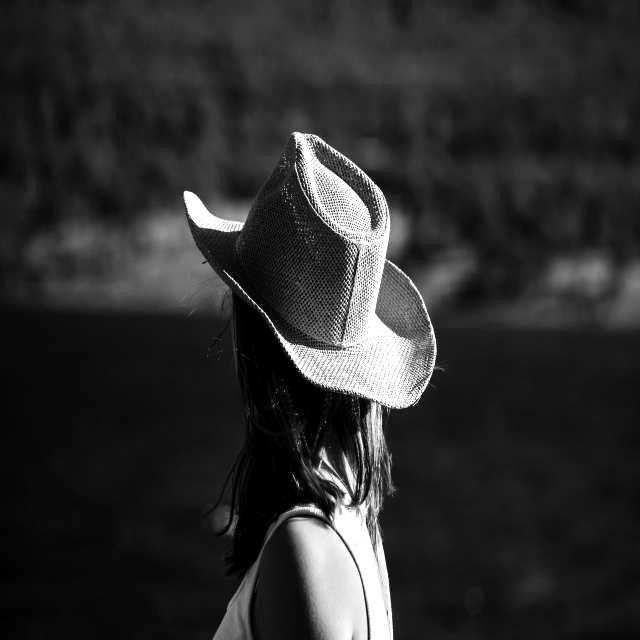no_hard_hat: (184, 133, 436, 409)
person: (199, 133, 436, 640)
